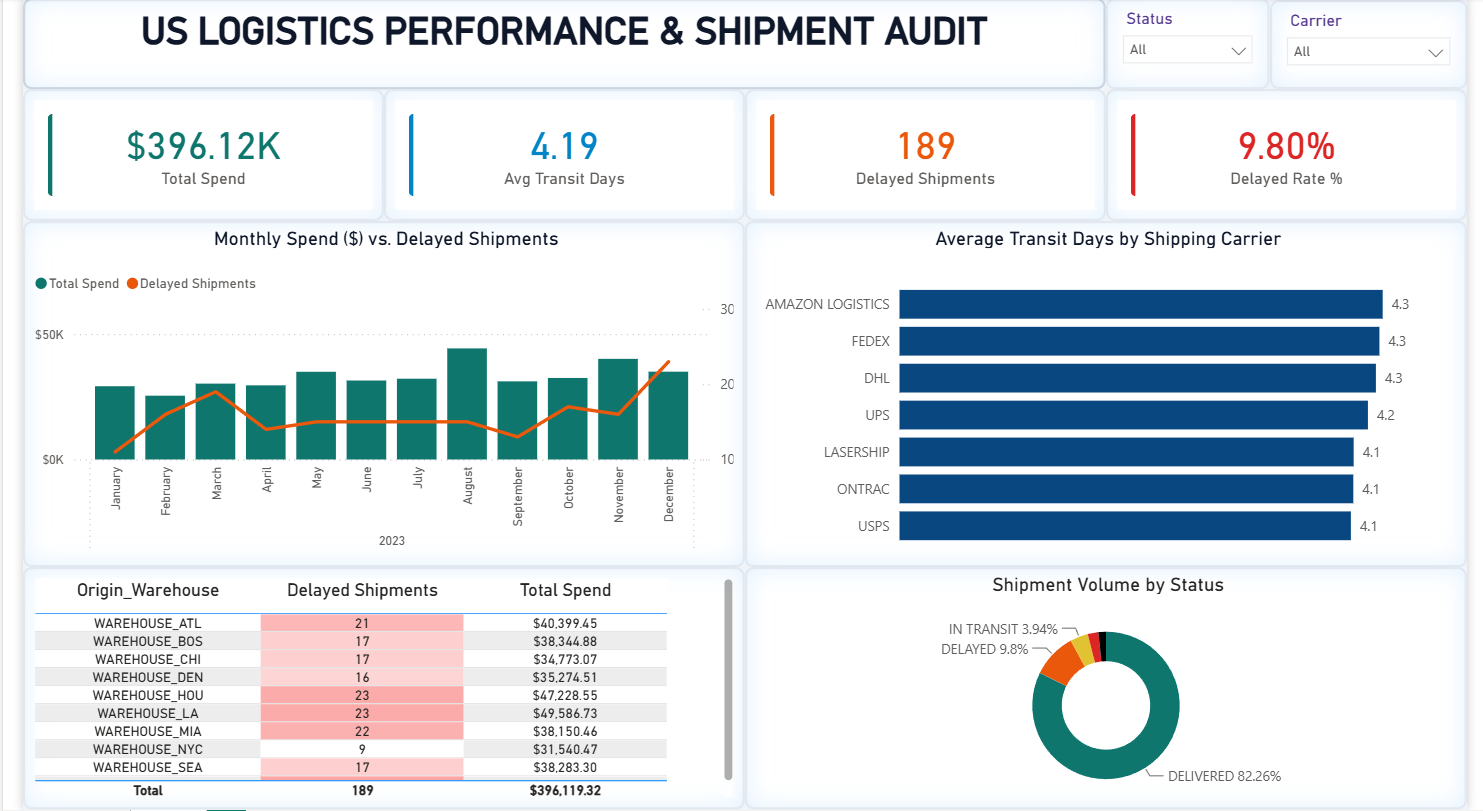

What the dashboard file says about the page in this screenshot:
{"tool":"powerbi","page":{"name":"Page 1","canvas":[1280,720],"ordinal":0},"visuals":[{"type":"textbox","box":[0,0,960.3,80.7],"z":0},{"type":"cardVisual","fields":{"Data":["logistics_shipments_dataset.Total Spend"]},"box":[0,80.7,320.1,117],"z":1000},{"type":"cardVisual","fields":{"Data":["logistics_shipments_dataset.Avg Transit Days"]},"box":[320.1,80.7,320.1,117],"z":2000},{"type":"cardVisual","fields":{"Data":["logistics_shipments_dataset.Delayed Shipments"]},"box":[640.2,80.7,320.1,117],"z":3000},{"type":"cardVisual","fields":{"Data":["logistics_shipments_dataset.Delayed Rate %"]},"box":[960.3,80.7,320.1,117],"z":4000},{"type":"lineStackedColumnComboChart","title":"Monthly Spend ($) vs. Delayed Shipments","fields":{"Category":["logistics_shipments_dataset.Shipment_Date.Variation.Date Hierarchy.Year","logistics_shipments_dataset.Shipment_Date.Variation.Date Hierarchy.Month"],"Y":["logistics_shipments_dataset.Total Spend"],"Y2":["logistics_shipments_dataset.Delayed Shipments"]},"box":[0,197.7,640.2,306.8],"z":5000},{"type":"clusteredBarChart","title":"Average Transit Days by Shipping Carrier","fields":{"Category":["logistics_shipments_dataset.Carrier"],"Y":["logistics_shipments_dataset.Avg Transit Days"]},"box":[640.2,197.7,640.2,306.8],"z":6000},{"type":"tableEx","fields":{"Values":["logistics_shipments_dataset.Origin_Warehouse","logistics_shipments_dataset.Delayed Shipments","logistics_shipments_dataset.Total Spend"]},"box":[0,504.5,640.2,215.5],"z":7000},{"type":"donutChart","title":"Shipment Volume by Status","fields":{"Category":["logistics_shipments_dataset.Status"],"Y":["CountNonNull(logistics_shipments_dataset.Status)"]},"box":[640.2,504.5,640.2,215.5],"z":8000},{"type":"slicer","fields":{"Values":["logistics_shipments_dataset.Carrier"]},"box":[1105.7,1.8,174.7,78.9],"z":9000},{"type":"slicer","fields":{"Values":["logistics_shipments_dataset.Status"]},"box":[960.3,0,145.4,80.7],"z":10000}]}

Visuals, with their boxes in screenshot pixels (x1, y1, x2, y2), scaled from the page's 1280x720 canvas onto the 1483x811 screenshot:
textbox: box(0, 0, 1113, 91)
cardVisual - logistics_shipments_dataset.Total Spend: box(0, 91, 371, 223)
cardVisual - logistics_shipments_dataset.Avg Transit Days: box(371, 91, 742, 223)
cardVisual - logistics_shipments_dataset.Delayed Shipments: box(742, 91, 1113, 223)
cardVisual - logistics_shipments_dataset.Delayed Rate %: box(1113, 91, 1482, 223)
"Monthly Spend ($) vs. Delayed Shipments" lineStackedColumnComboChart: box(0, 223, 742, 568)
"Average Transit Days by Shipping Carrier" clusteredBarChart: box(742, 223, 1482, 568)
tableEx - logistics_shipments_dataset.Origin_Warehouse x logistics_shipments_dataset.Delayed Shipments: box(0, 568, 742, 810)
"Shipment Volume by Status" donutChart: box(742, 568, 1482, 810)
slicer - logistics_shipments_dataset.Carrier: box(1281, 2, 1482, 91)
slicer - logistics_shipments_dataset.Status: box(1113, 0, 1281, 91)
